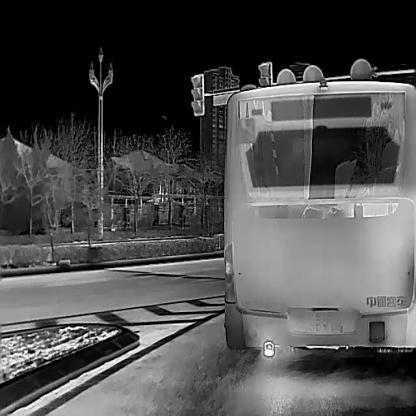car: (222, 76, 415, 358)
